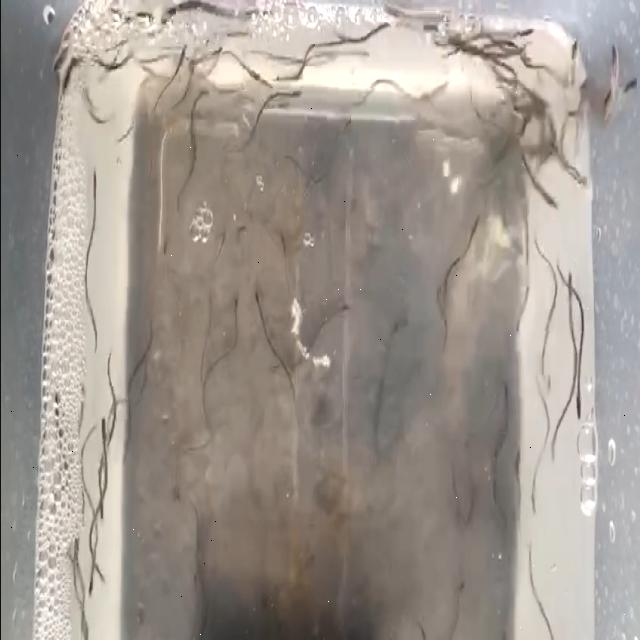inactive_glass_eel: (386, 296, 410, 356), (538, 176, 560, 238), (327, 295, 361, 335), (464, 204, 484, 254), (604, 35, 626, 79), (568, 382, 584, 441), (566, 158, 588, 200), (272, 228, 288, 278), (172, 41, 186, 96), (84, 171, 105, 207), (92, 410, 107, 460), (84, 548, 98, 597), (560, 279, 576, 321), (624, 74, 638, 119), (496, 377, 512, 415), (283, 88, 307, 112), (566, 41, 582, 75), (212, 229, 228, 262), (455, 567, 470, 599), (222, 296, 240, 320), (254, 70, 274, 86), (92, 498, 104, 524), (252, 283, 260, 306)
